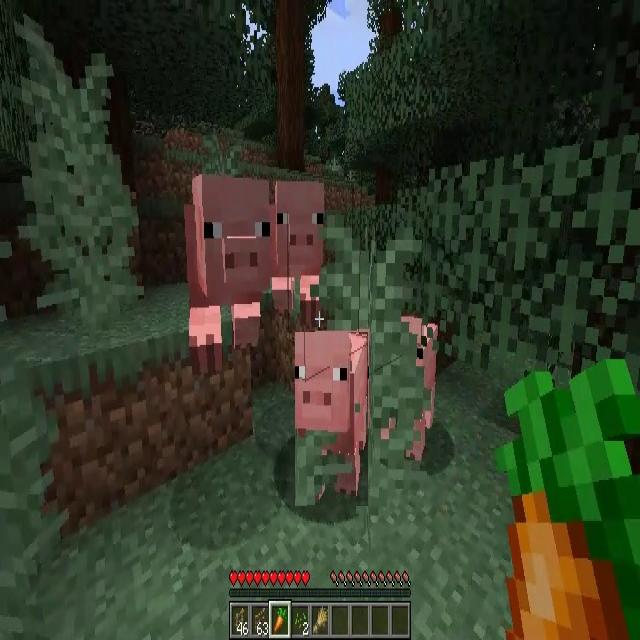pig: (189, 175, 276, 349), (295, 332, 368, 506), (276, 180, 325, 307)
